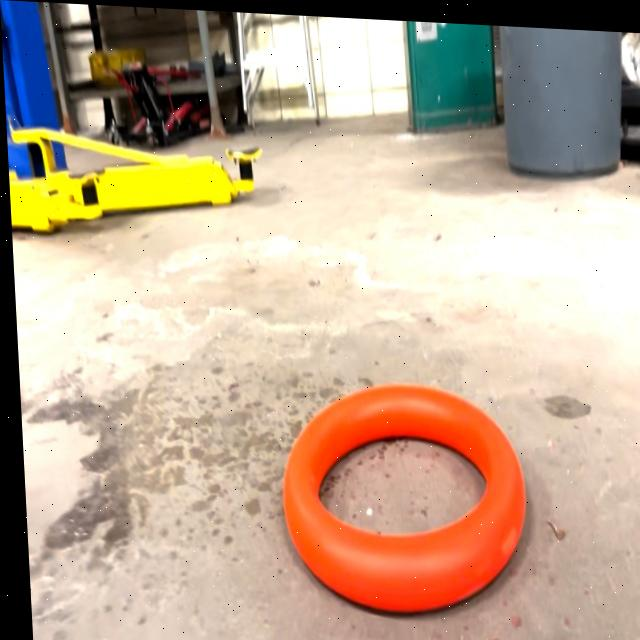note: (273, 379, 524, 612)
